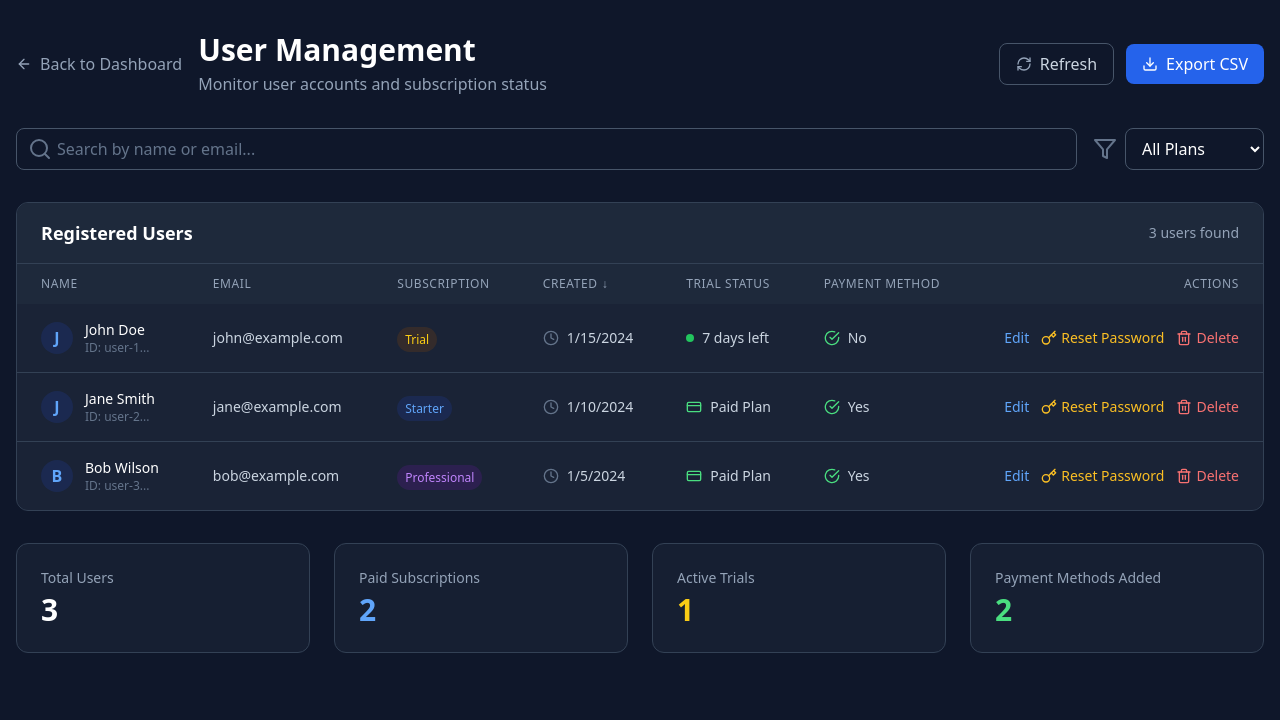
Test: UserDashboard Component › Search Functionality › should show "No users found" for non-matching search
Expected: the text "John Doe" is shown, [85,320,150,340]
Type "nonexistent" into the field with placeholder "Search by name or email..." at (546, 149), box [16,128,1077,170]
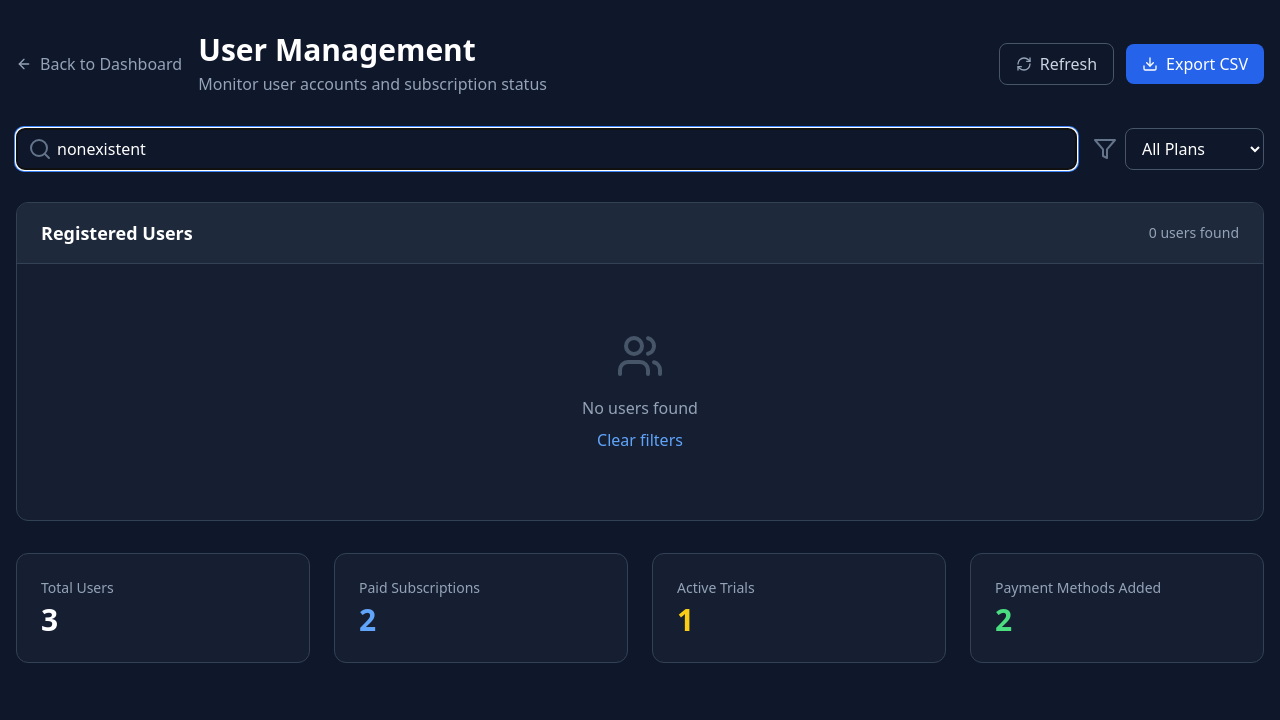
Expected: the text "No users found" is shown, [582,396,698,420]
